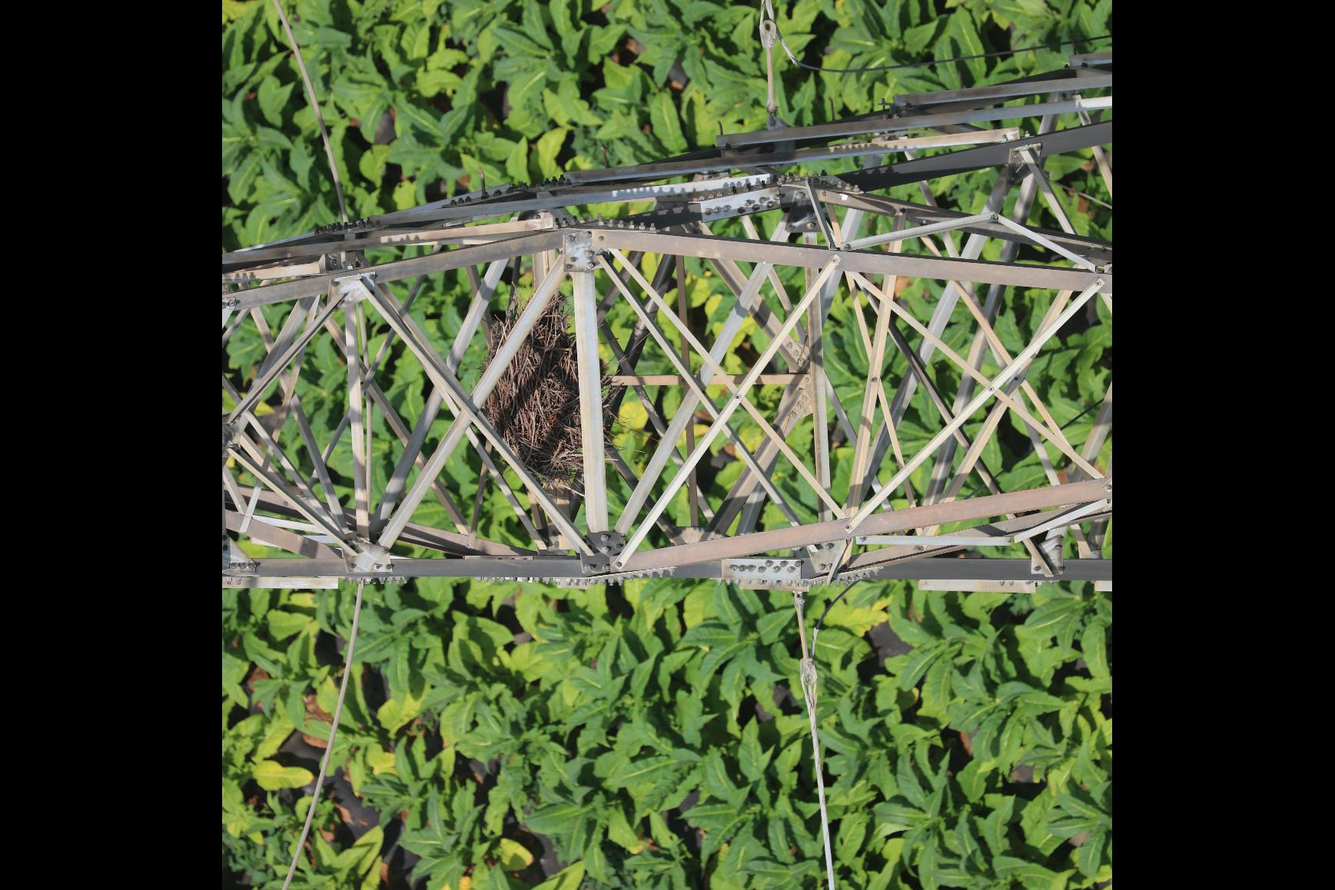nest: (478, 294, 584, 491)
